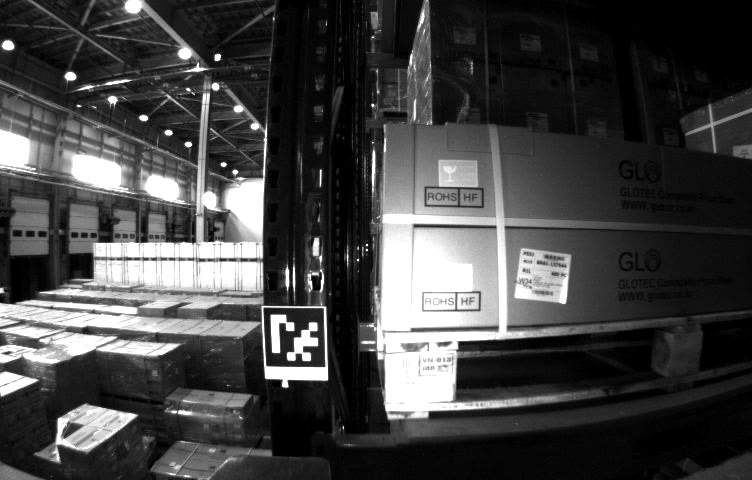True Barcode: (516, 249, 566, 298)
